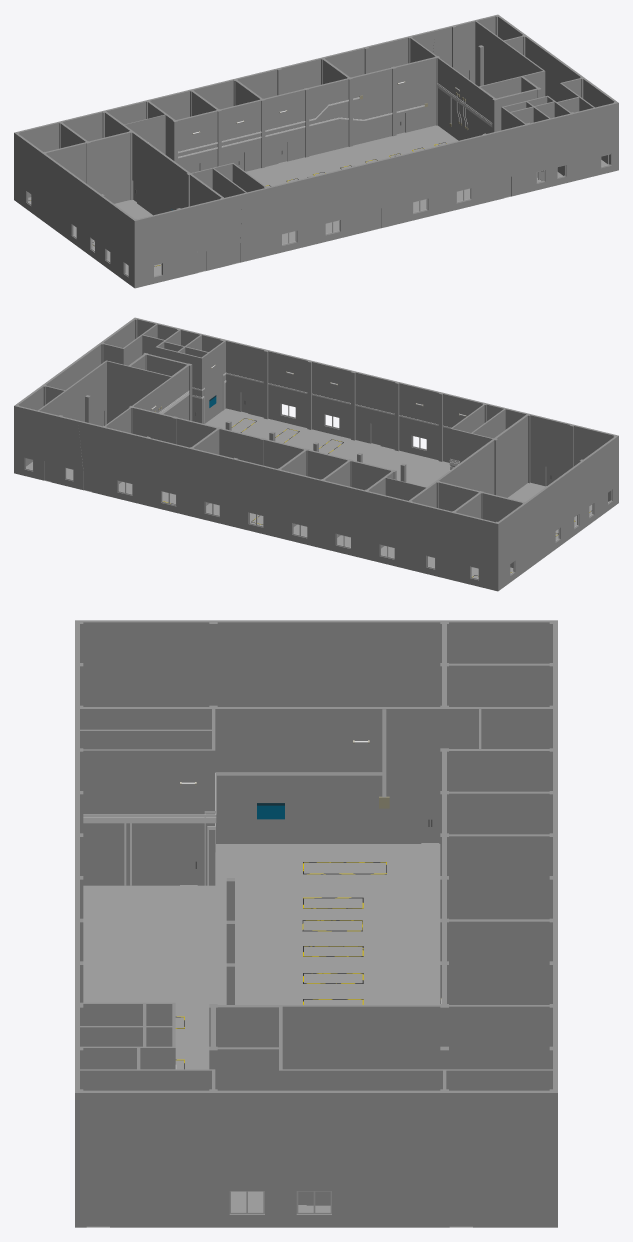
Rendered from shiyanlou_A01.fbx.
3 views of the same model, one above another, from view 1: azimuth 30°, elevation 25°; view 2: azimuth 150°, elevation 25°; view 3: azimuth 270°, elevation 25° (orthographic). The views are drawn at different scales.
Visible parts, largest first — view 1: shiyanlou_A01; view 2: shiyanlou_A01; view 3: shiyanlou_A01.
Boxes of the visible parts, bbox=[...] form: shiyanlou_A01: bbox=[14, 14, 618, 288]; shiyanlou_A01: bbox=[14, 317, 618, 591]; shiyanlou_A01: bbox=[75, 620, 557, 1227].
Size of the model in its own units: 3597 by 492 by 1554.
